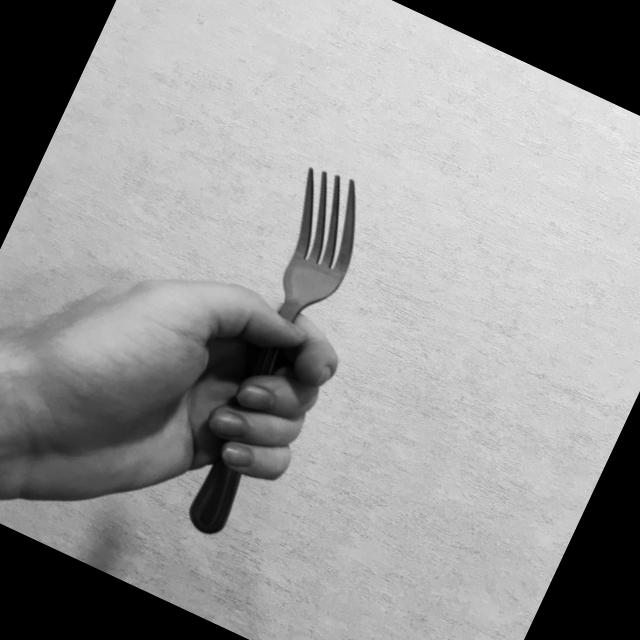fork: (143, 156, 390, 545)
